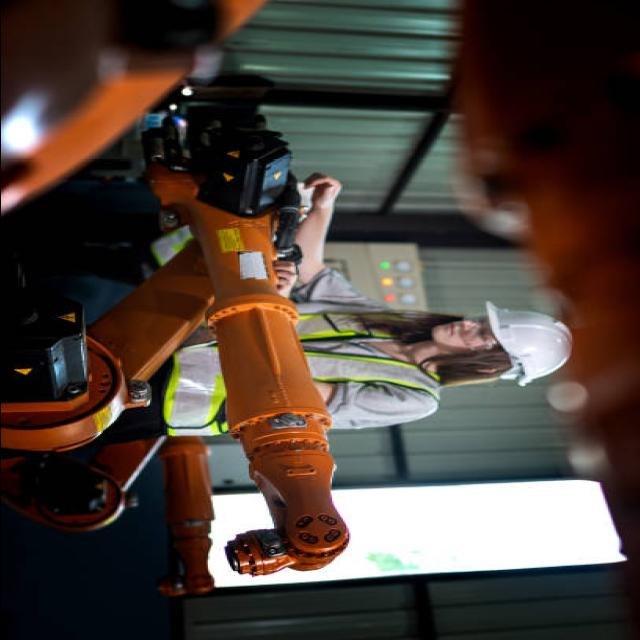Robotic-arm: (0, 151, 368, 578)
